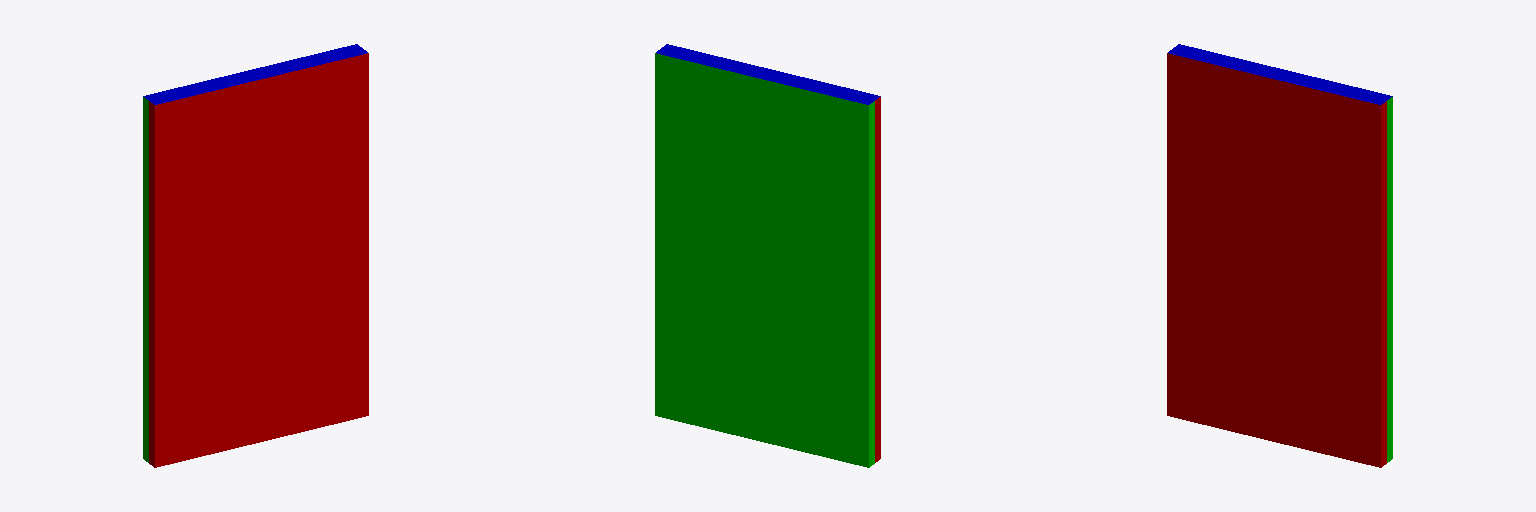
The model's file is wall.obj.
3 views of the same model, side by side, from view 1: azimuth 30°, elevation 25°; view 2: azimuth 150°, elevation 25°; view 3: azimuth 330°, elevation 25° (orthographic).
Size of the model in its own units: 2 by 3.24 by 0.2.